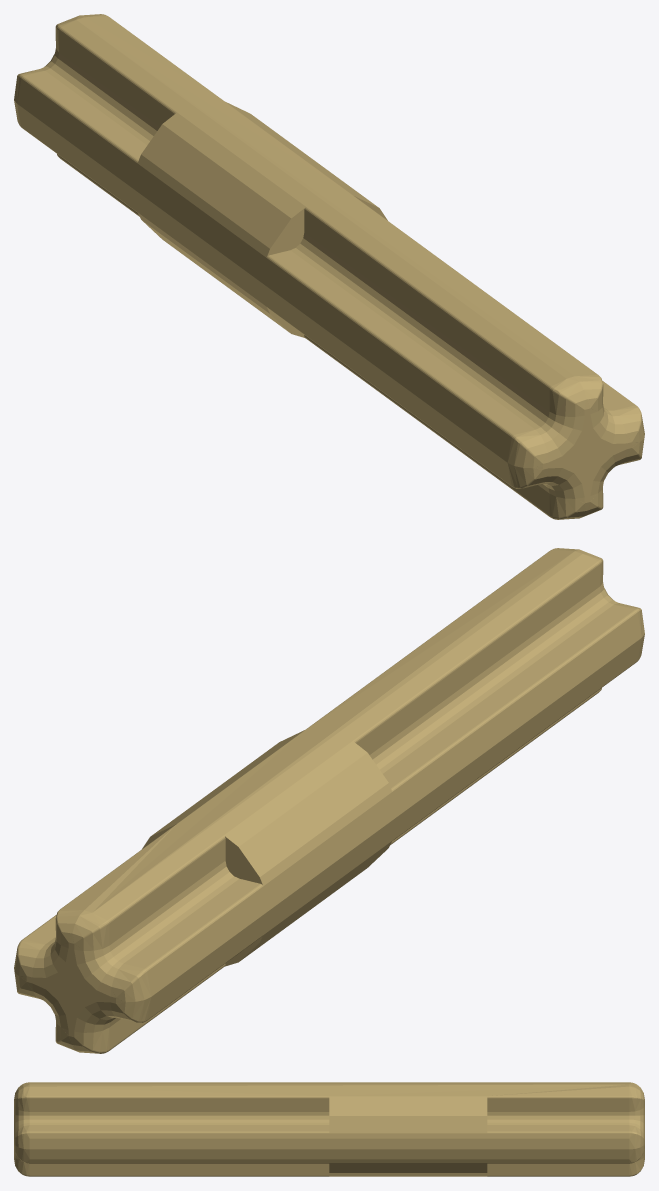
File: Sand_4666999_JC.fbx
3 views of the same model, one above another, from view 1: azimuth 30°, elevation 25°; view 2: azimuth 150°, elevation 25°; view 3: azimuth 270°, elevation 25° (orthographic). The views are drawn at different scales.
Parts seen in each view (by area): view 1: Sand_4666999_JC; view 2: Sand_4666999_JC; view 3: Sand_4666999_JC.
Boxes of the visible parts, left/top/right/bottom form: Sand_4666999_JC: left=14, top=14, right=644, bottom=519; Sand_4666999_JC: left=14, top=548, right=644, bottom=1053; Sand_4666999_JC: left=14, top=1082, right=644, bottom=1176.
Bounding box in the file's own units: 0.48 × 0.48 × 3.2.
